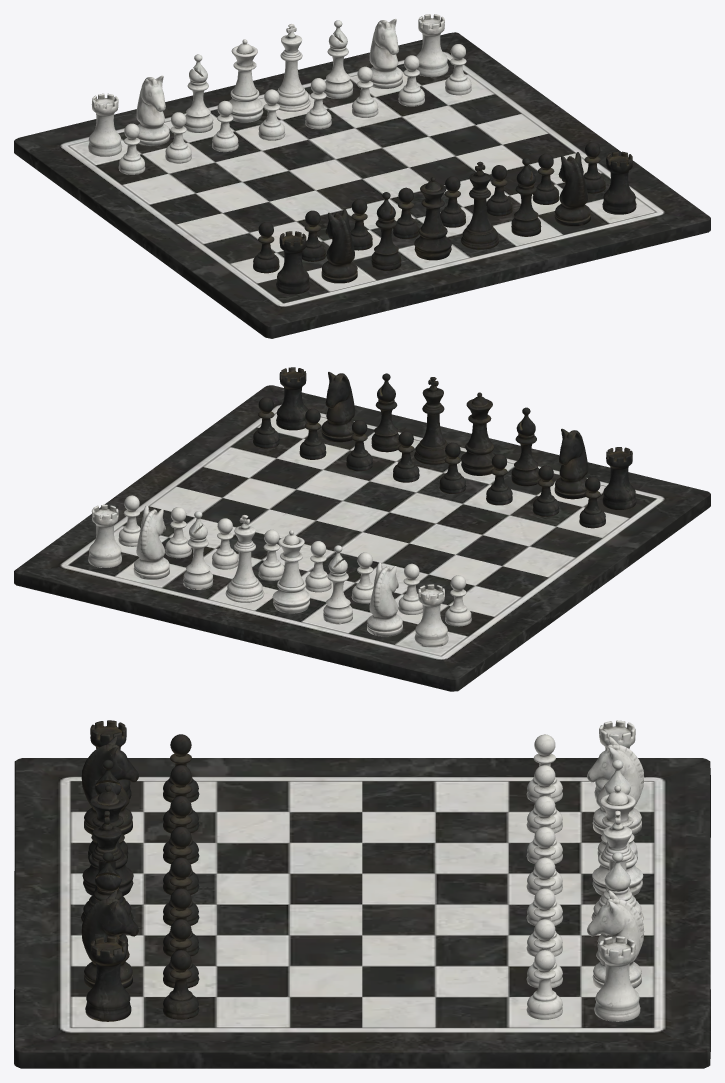
File: chess_set.glb
The picture shows the model from 3 angles, top to bottom: view 1: azimuth 30°, elevation 25°; view 2: azimuth 150°, elevation 25°; view 3: azimuth 270°, elevation 25°; orthographic projection. The views are drawn at different scales.
Parts seen in each view (by area): view 1: board, piece_queen_black, piece_knight_black_01, piece_knight_black_02, piece_queen_white, piece_knight_white_02, piece_knight_white_01, piece_king_black, piece_king_white, piece_rook_black_01, piece_rook_black_02, piece_rook_white_02 (+21 smaller); view 2: board, piece_queen_white, piece_knight_white_01, piece_knight_white_02, piece_queen_black, piece_knight_black_01, piece_knight_black_02, piece_king_white, piece_king_black, piece_rook_white_02, piece_rook_black_01, piece_rook_white_01 (+21 smaller); view 3: board, piece_rook_white_01, piece_rook_black_02, piece_knight_white_01, piece_knight_black_02, piece_knight_white_02, piece_knight_black_01, piece_queen_white, piece_queen_black, piece_pawn_white_01, piece_pawn_black_08, piece_king_white (+21 smaller).
Boxes of the visible parts, <box> form: board: <box>14,32,710,338</box>; piece_queen_black: <box>414,177,451,260</box>; piece_knight_black_01: <box>321,209,357,283</box>; piece_knight_black_02: <box>554,152,590,226</box>; piece_queen_white: <box>228,39,263,122</box>; piece_knight_white_02: <box>136,75,169,145</box>; piece_knight_white_01: <box>369,18,402,88</box>; piece_king_black: <box>461,161,499,249</box>; piece_king_white: <box>277,24,310,111</box>; piece_rook_black_01: <box>276,231,310,294</box>; piece_rook_black_02: <box>602,151,636,214</box>; piece_rook_white_02: <box>88,93,122,156</box>; board: <box>14,385,710,691</box>; piece_queen_white: <box>272,530,310,613</box>; piece_knight_white_01: <box>133,505,169,579</box>; piece_knight_white_02: <box>367,562,402,636</box>; piece_queen_black: <box>461,392,495,475</box>; piece_knight_black_01: <box>554,428,588,499</box>; piece_knight_black_02: <box>321,372,354,442</box>; piece_king_white: <box>225,515,264,602</box>; piece_king_black: <box>414,377,447,464</box>; piece_rook_white_02: <box>414,584,448,647</box>; piece_rook_black_01: <box>602,447,636,509</box>; piece_rook_white_01: <box>88,504,121,567</box>; board: <box>14,758,710,1068</box>; piece_rook_white_01: <box>594,936,640,1021</box>; piece_rook_black_02: <box>85,936,131,1021</box>; piece_knight_white_01: <box>587,890,644,988</box>; piece_knight_black_02: <box>81,890,138,988</box>; piece_knight_white_02: <box>587,736,644,834</box>; piece_knight_black_01: <box>81,736,138,834</box>; piece_queen_white: <box>592,785,643,895</box>; piece_queen_black: <box>82,785,133,895</box>; piece_pawn_white_01: <box>526,950,562,1019</box>; piece_pawn_black_08: <box>163,950,199,1019</box>; piece_king_white: <box>591,810,643,920</box>.
Bounding box in the file's own units: 0.5532 × 0.1124 × 0.5532.
3 materials, 3 textured.
